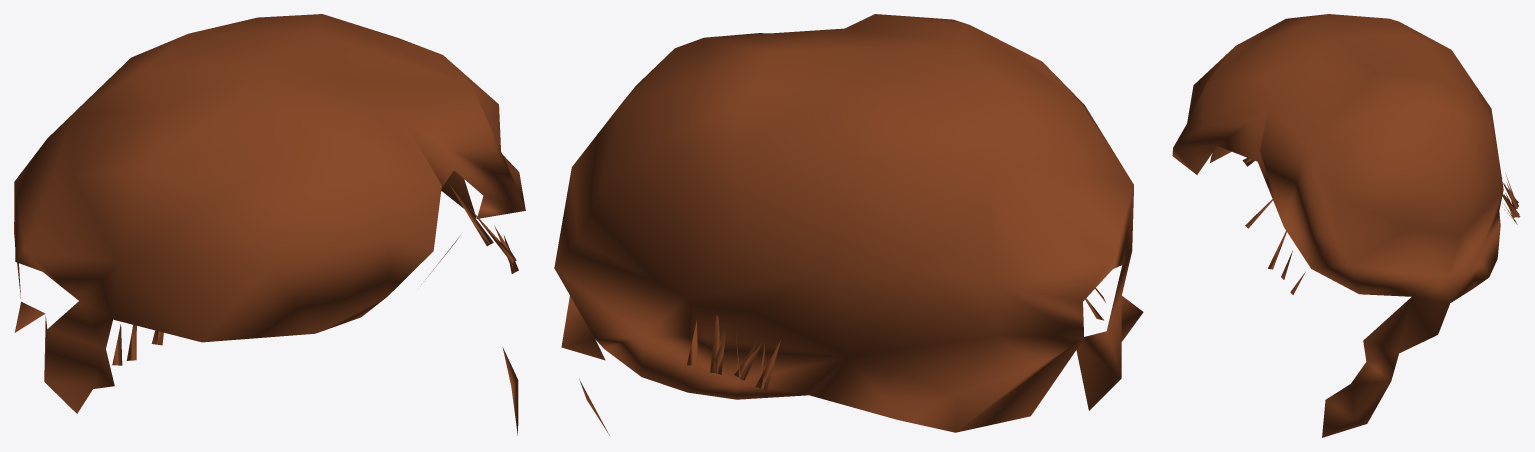
The model's file is braid.glb.
3 renders of one model, left to right at view 1: azimuth 30°, elevation 25°; view 2: azimuth 150°, elevation 25°; view 3: azimuth 270°, elevation 25°, orthographic. The views are drawn at different scales.
Parts seen in each view (by area): view 1: Hair, HairPulledRootStrands; view 2: Hair, HairPulledRootStrands; view 3: Hair, HairPulledRootStrands.
Part boxes in pixels (bbox=[...]): Hair: bbox=[14, 14, 525, 435]; HairPulledRootStrands: bbox=[112, 183, 518, 365]; Hair: bbox=[554, 14, 1143, 435]; HairPulledRootStrands: bbox=[687, 288, 1105, 390]; Hair: bbox=[1172, 14, 1503, 437]; HairPulledRootStrands: bbox=[1242, 157, 1520, 294].
Size of the model in its own units: 0.52 by 0.4289 by 0.4343.
